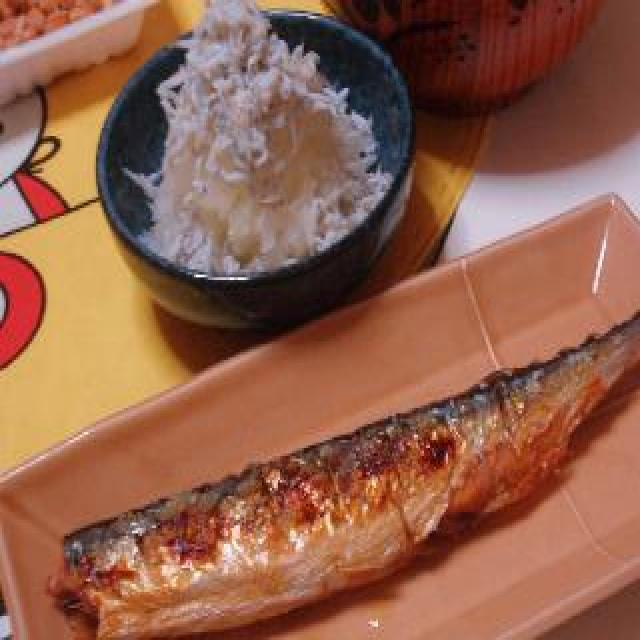熟制海鲜: (6, 186, 640, 640)
